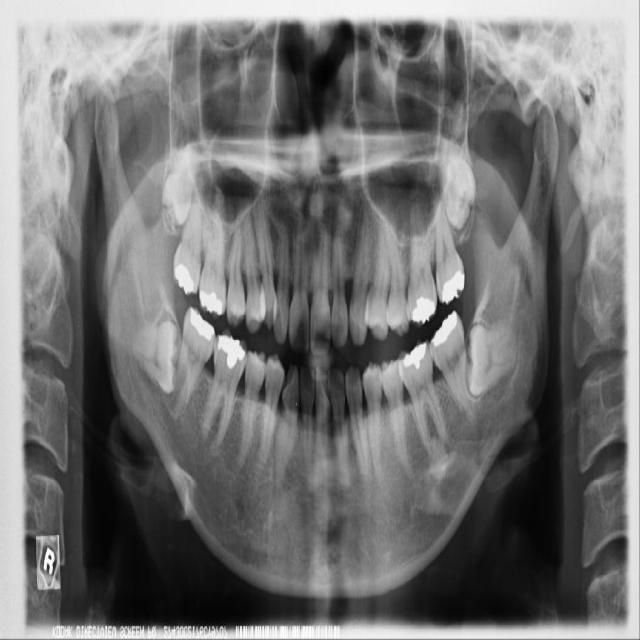Filling: (217, 334, 247, 369), (430, 311, 459, 347), (188, 308, 217, 341), (440, 268, 465, 303), (197, 289, 226, 313), (412, 293, 434, 324), (173, 263, 196, 292), (402, 348, 429, 368)
Periapical lesion: (428, 439, 449, 476), (207, 433, 224, 459), (231, 454, 247, 477)
impacted tooth: (466, 312, 518, 398), (122, 316, 181, 389), (442, 137, 477, 231), (162, 143, 196, 221)
